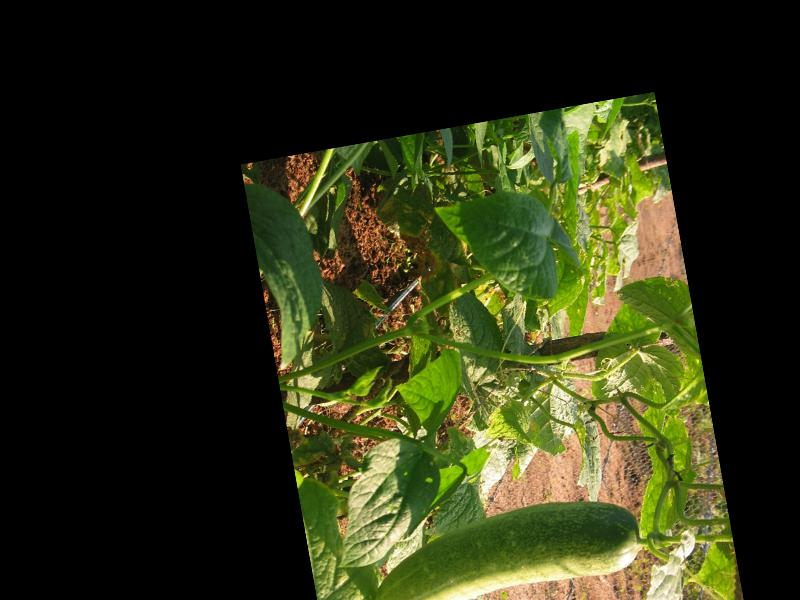Cucumber: (363, 488, 646, 600)
